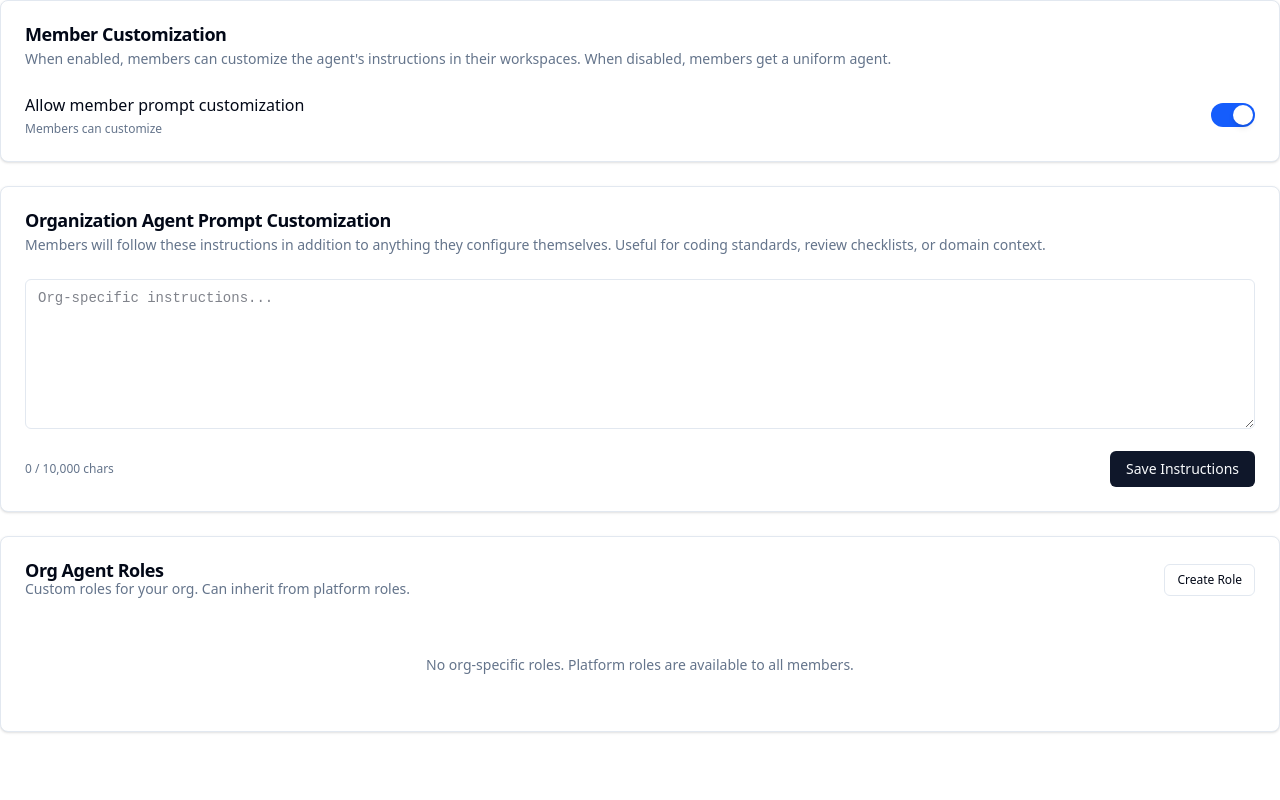
Test: OrgAgentConfigTab — copy hides implementation jargon (#480) › shows a jargon-free toast after saving (#480 follow-up)
Click the button "Save Instructions": (1182, 469) top-left (1110, 451), bottom-right (1255, 487)
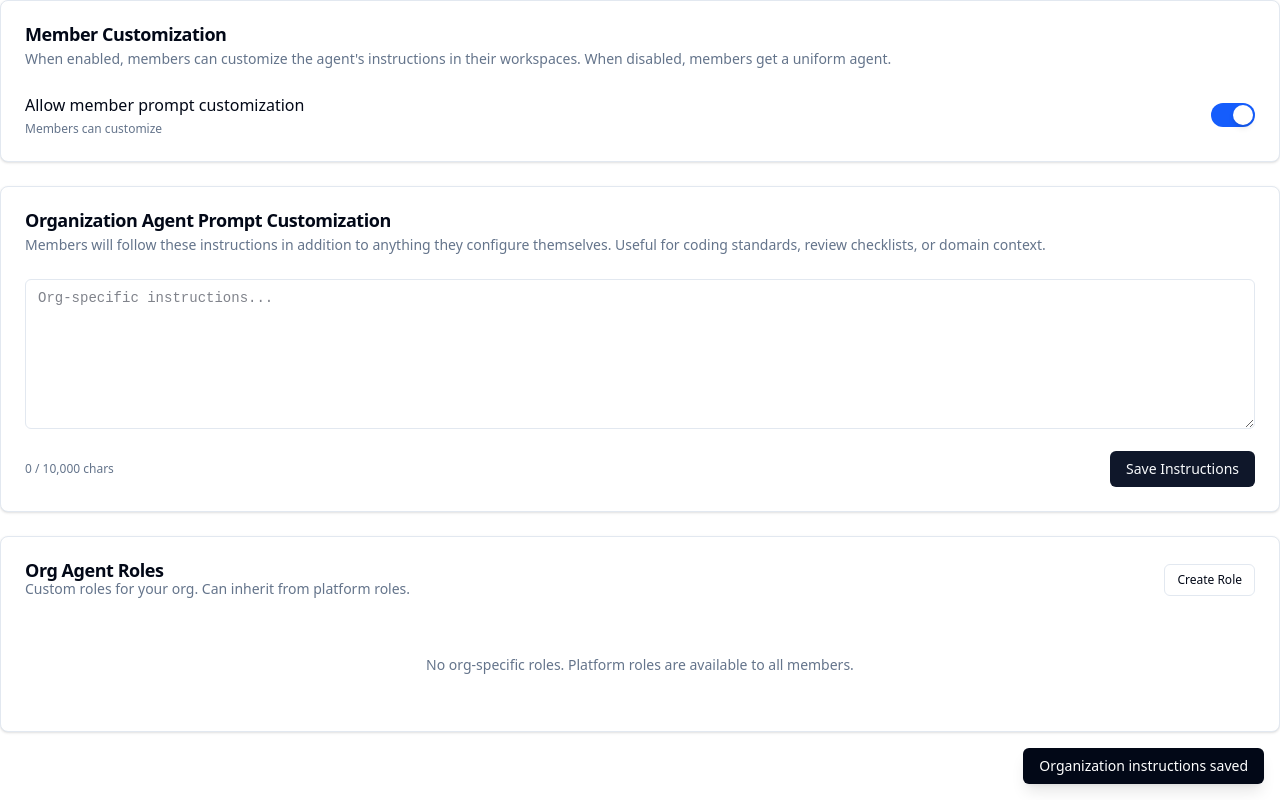
Expected: the text "Organization instructions saved" is shown, top-left (1023, 748), bottom-right (1264, 784)
